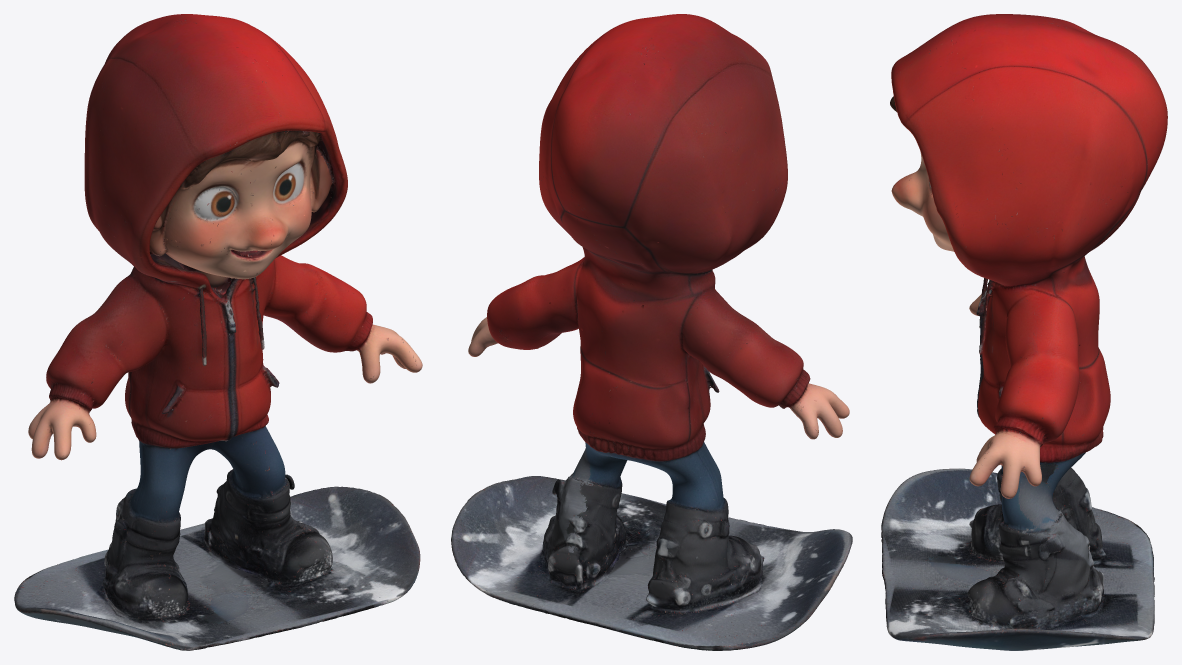
File: player_game.glb
3 views of the same model, side by side, from view 1: azimuth 30°, elevation 25°; view 2: azimuth 150°, elevation 25°; view 3: azimuth 270°, elevation 25° (orthographic). The views are drawn at different scales.
Bounding box in the file's own units: 1.4 × 2 × 0.9178.
1 material, 1 textured.
